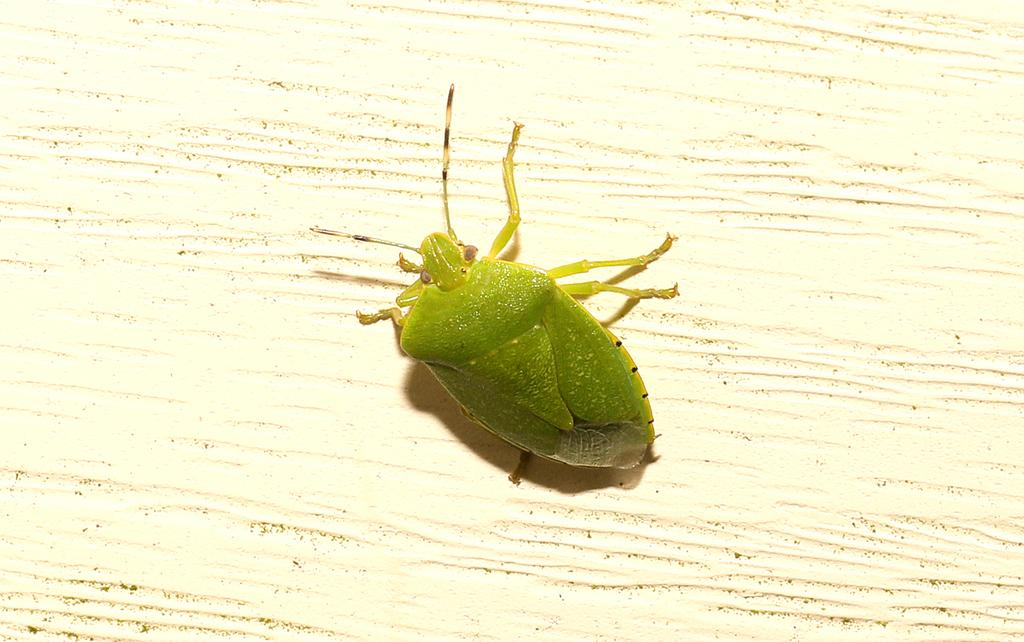stink_bugs: (263, 56, 769, 556)
